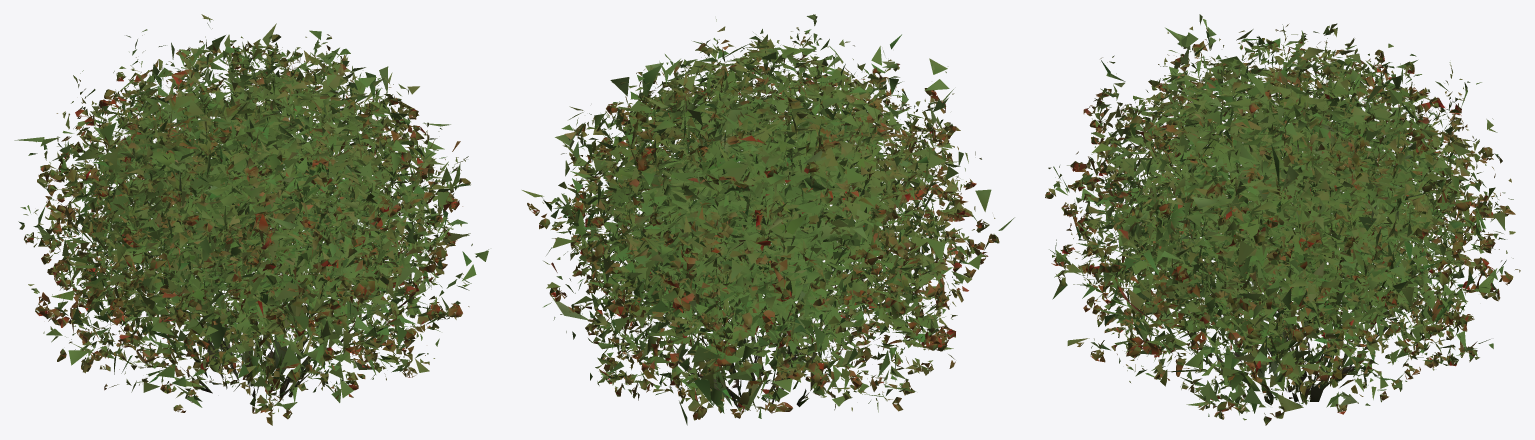
Rendered from berry-bush.glb.
3 renders of one model, left to right at view 1: azimuth 30°, elevation 25°; view 2: azimuth 150°, elevation 25°; view 3: azimuth 270°, elevation 25°, orthographic.
Parts seen in each view (by area): view 1: Mesh_0; view 2: Mesh_0; view 3: Mesh_0.
Part boxes in pixels (x1,y1,x2,y2): Mesh_0: (14,14,488,425); Mesh_0: (522,14,1014,425); Mesh_0: (1045,14,1520,425).
Bounding box in the file's own units: 1.31 × 1.09 × 1.3.
Materials: 1 (1 with a texture image).
